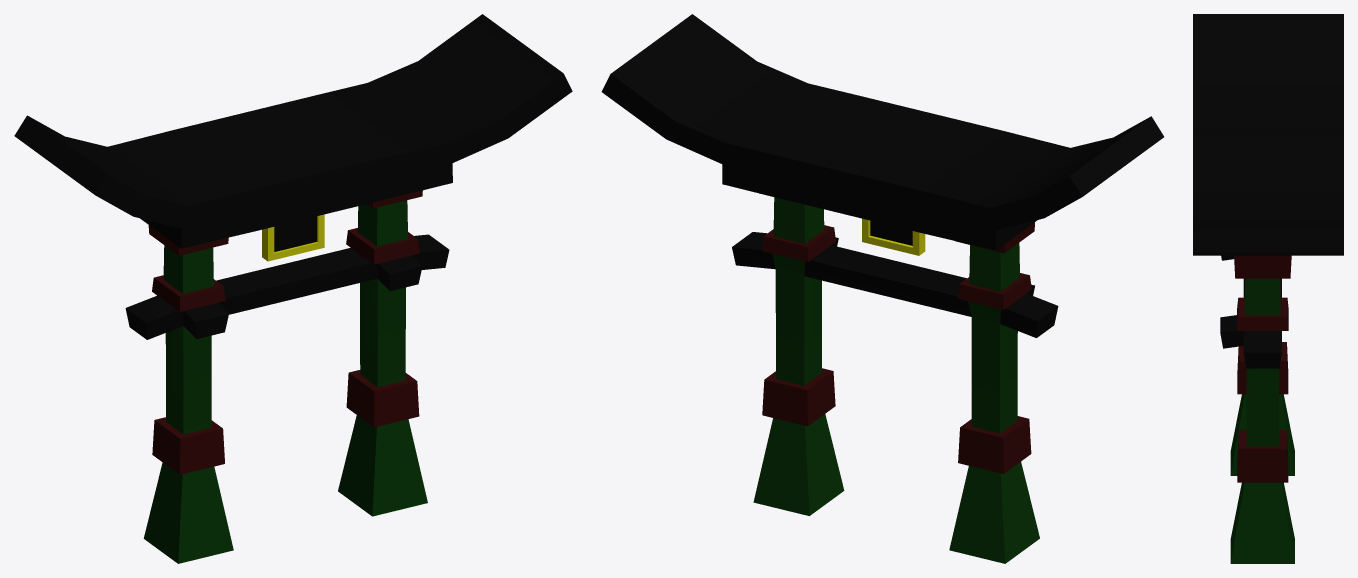
The model's file is Arco.fbx.
The picture shows the model from 3 angles, left to right: view 1: azimuth 30°, elevation 25°; view 2: azimuth 150°, elevation 25°; view 3: azimuth 270°, elevation 25°; orthographic projection. The views are drawn at different scales.
Visible parts, largest first — view 1: Tcho, Pilares, Banderita; view 2: Tcho, Pilares, Banderita; view 3: Tcho, Pilares.
Part boxes in pixels (bbox=[...]): Tcho: bbox=[14, 14, 572, 248]; Pilares: bbox=[125, 190, 449, 563]; Banderita: bbox=[262, 214, 324, 261]; Tcho: bbox=[601, 14, 1163, 250]; Pilares: bbox=[732, 193, 1058, 563]; Banderita: bbox=[862, 218, 925, 255]; Tcho: bbox=[1193, 14, 1343, 255]; Pilares: bbox=[1220, 255, 1294, 563].
Bounding box in the file's own units: 227 × 194 × 67.03.
